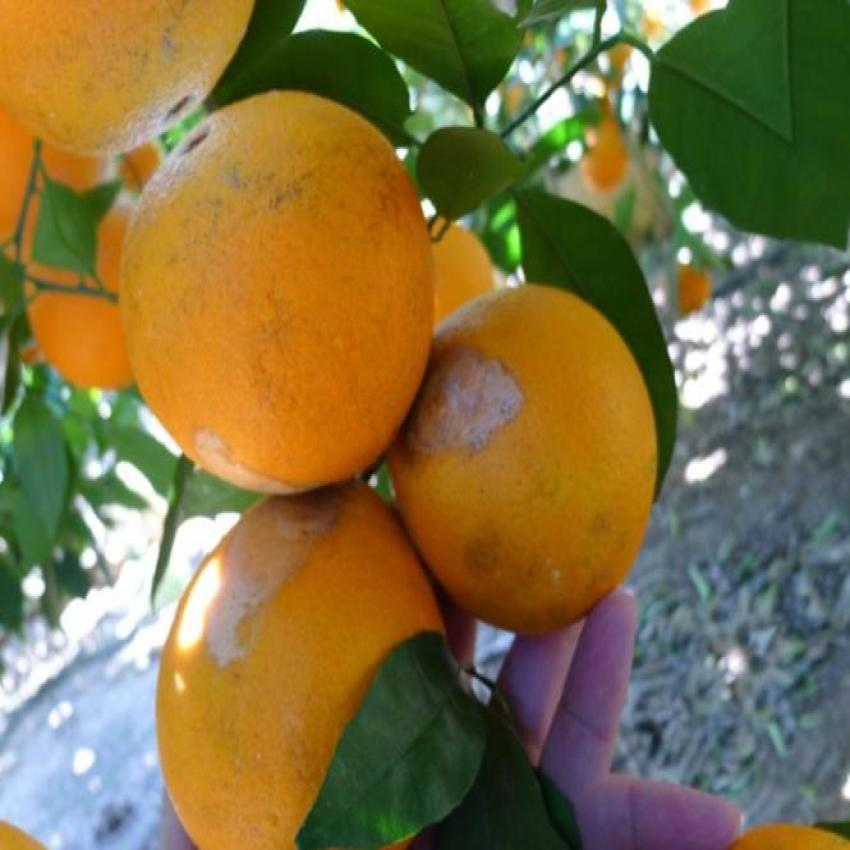Mal estado: (107, 99, 454, 504), (132, 466, 455, 845), (392, 276, 676, 674), (0, 0, 266, 144)
